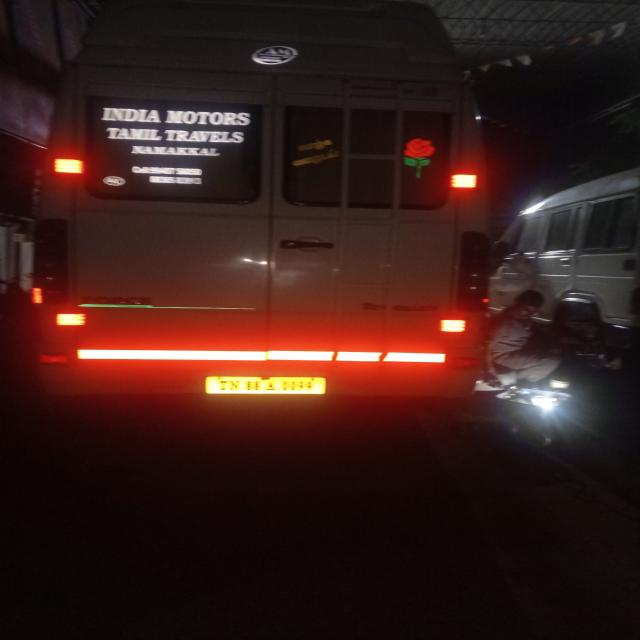Traveller: (35, 0, 638, 396)
